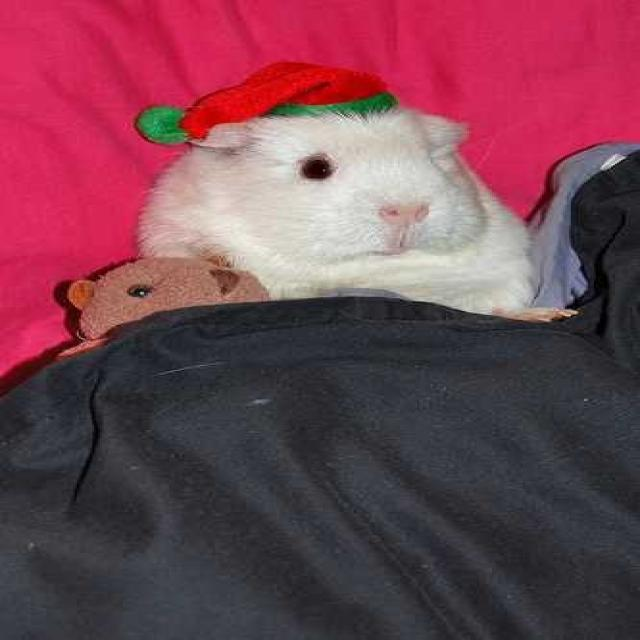guinea pig: (156, 100, 565, 326)
